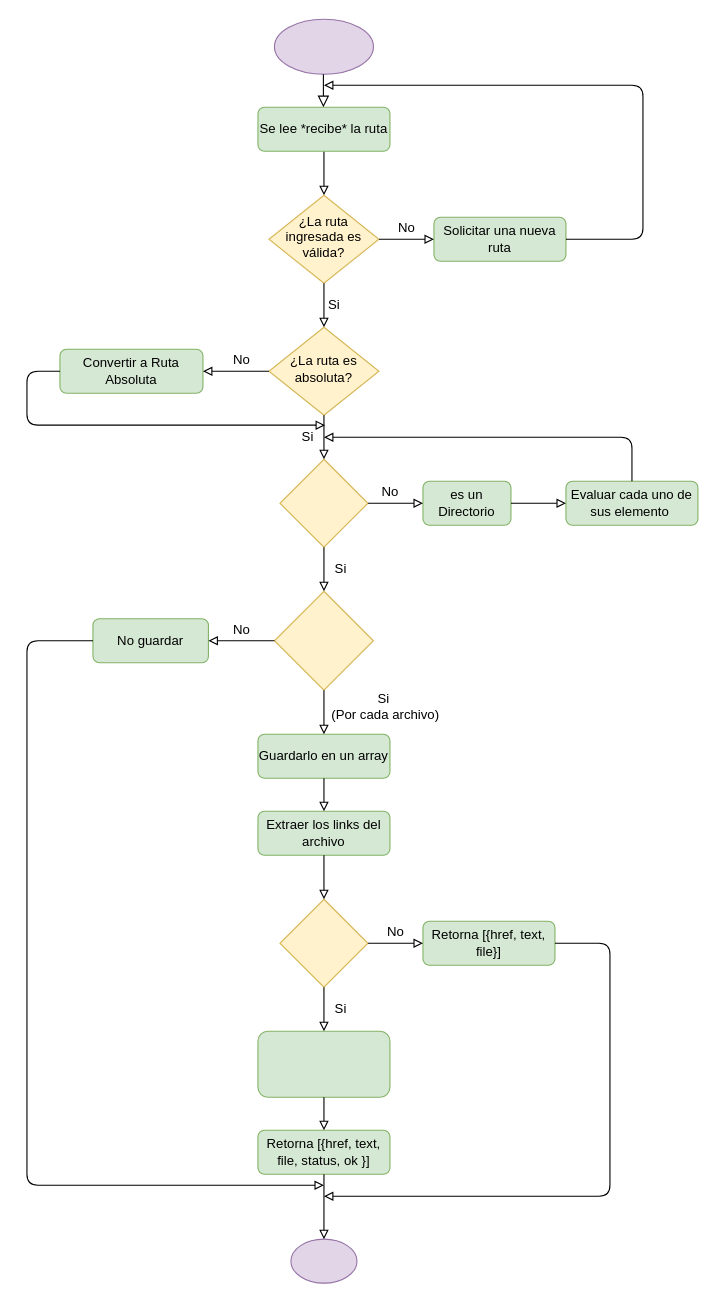
This 717x1302 diagram has some shape labels left out. Each missing label, with the box of its shape:
FIN: (290, 1238, 357, 1283)
Hacer la peticion de HTTP, examinar si el link funciona: (257, 1030, 390, 1097)
Inicio: (273, 18, 373, 74)
¿Deseas Validar?: (279, 898, 368, 987)
¿es un archivo md?: (273, 590, 373, 690)
¿es un archivo?: (279, 458, 368, 547)
